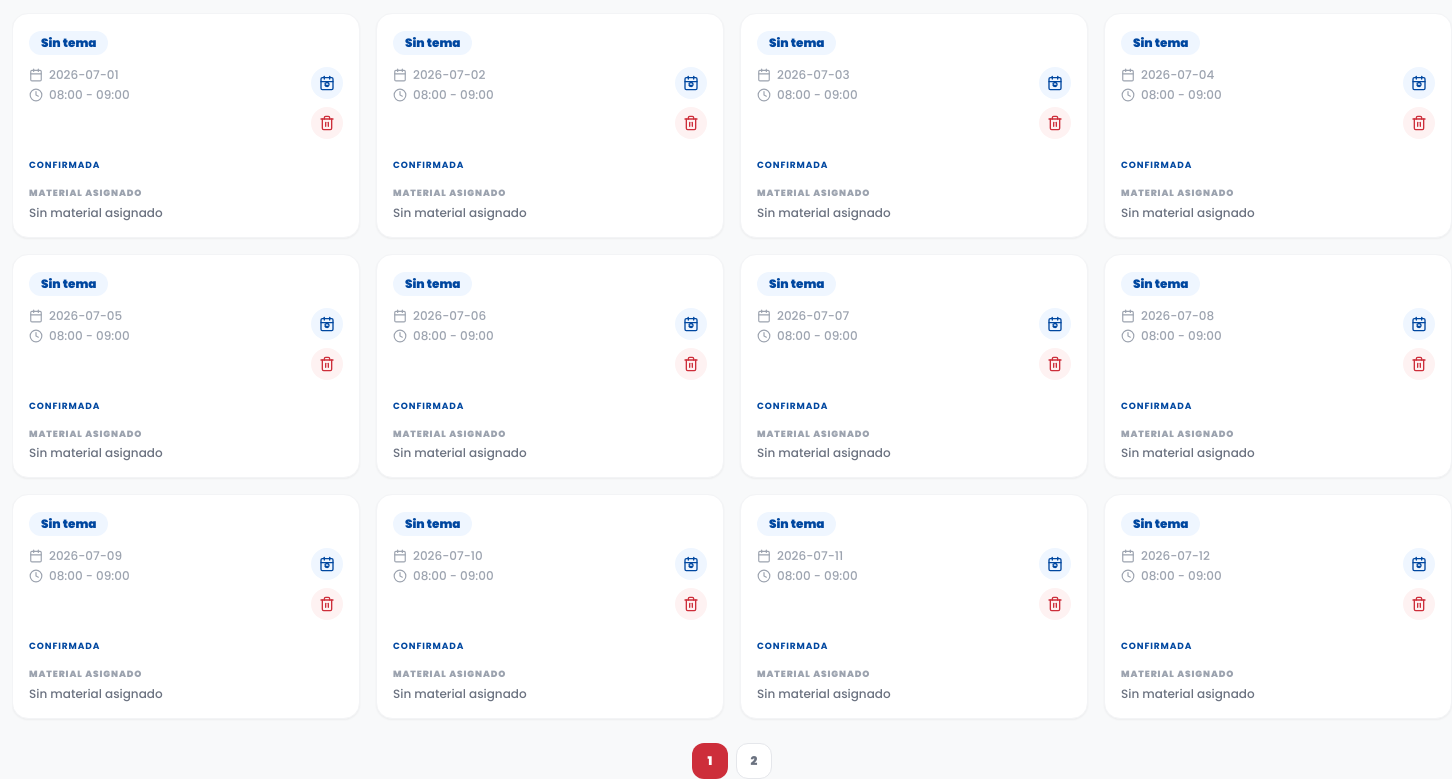
Scenario: MisClasesView - paginacion (grilla 4x3) › al hacer click en la pagina 2 muestra las siguientes jornadas
This screenshot has width=1452, height=779.
Expected: the text "2026-07-01" is shown, [29,67,130,83]
Expected: the text "2026-07-13" is not shown
Click the button "2". click: x=754, y=760
box: [736,742,772,778]
(page scrolled)
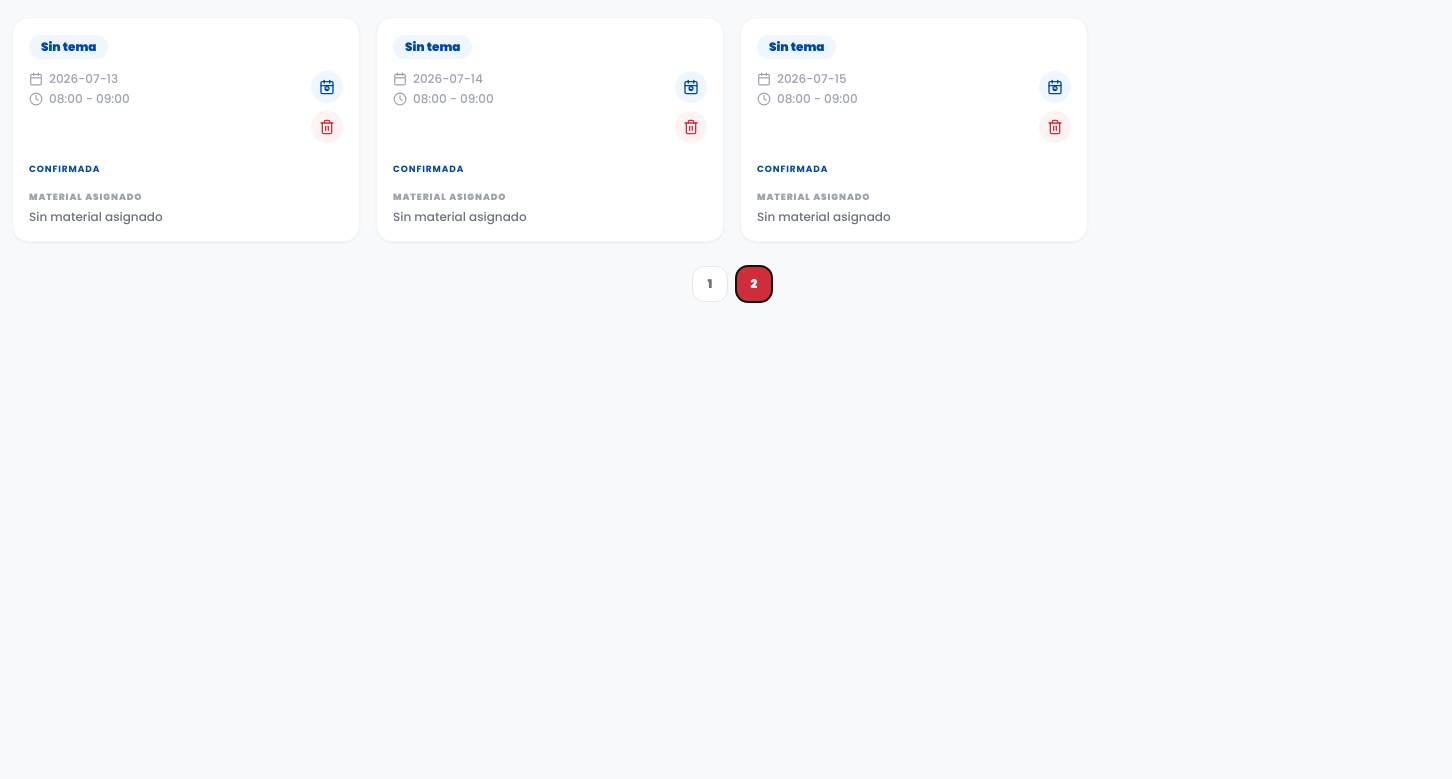
Result: the text "2026-07-13" is shown at [29,71,130,87]
Result: the text "2026-07-01" is gone
